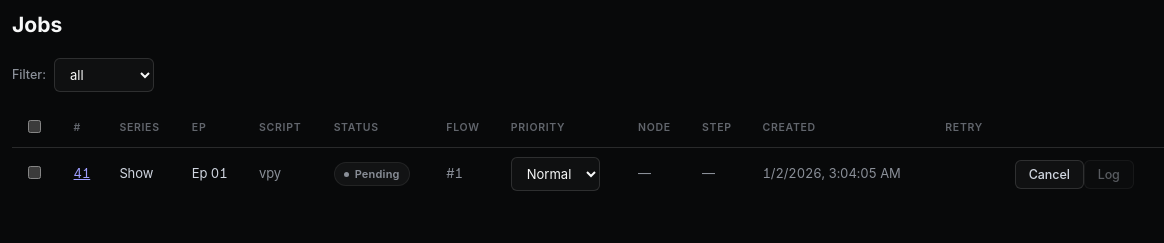
Test case: Jobs page › bulk cancel uses the checked ids and clears on filter change
Expected: the link "41" is shown, [74,165,90,181]
Click the checkbox named "Select job 41". click: [34, 173]
box: [28,166,41,179]
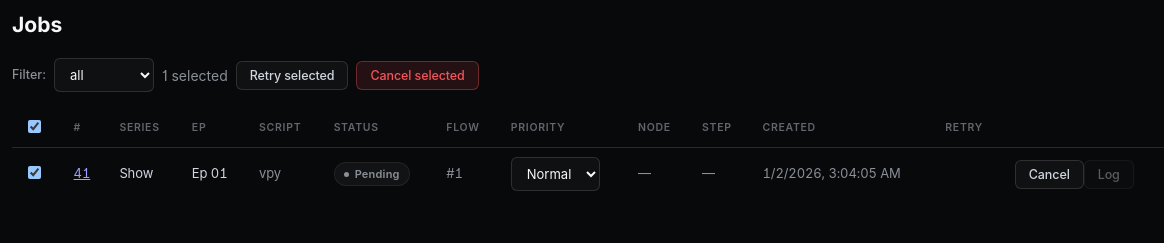
Select "pending" in the 1st dropdown. click: [104, 75]
box: [54,58,154,92]
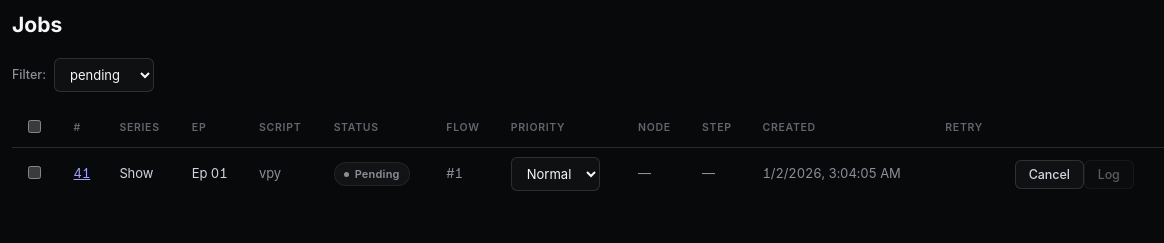
Expected: the text "1 selected" is gone
Re-check and cancel.
Click the checkbox named "Select job 41". click: [34, 173]
box: [28,166,41,179]
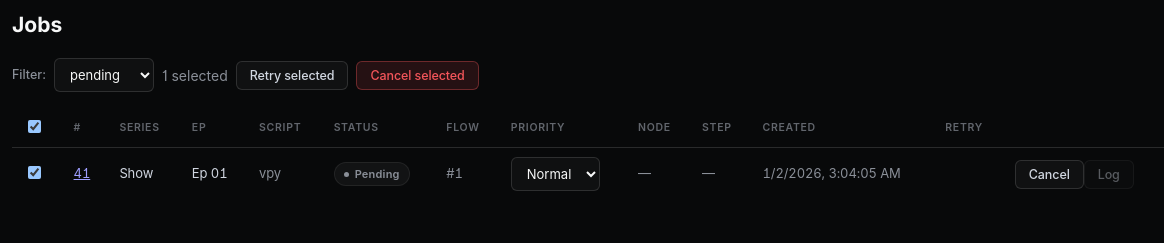
Click the button "Cancel selected". click: [418, 75]
box: [356,61,479,90]
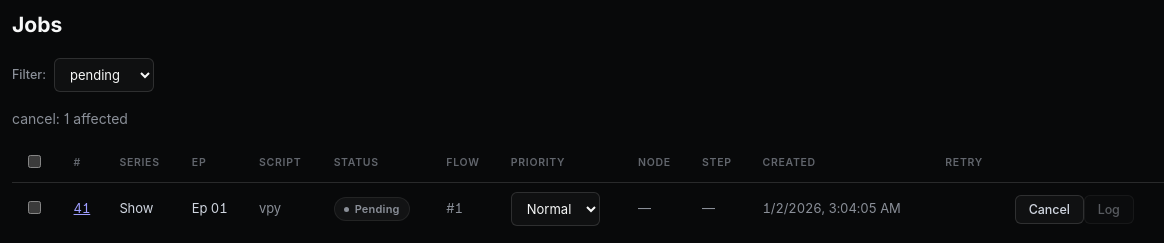
Expected: the text "cancel: 1 affected" is shown, [12,110,128,127]
